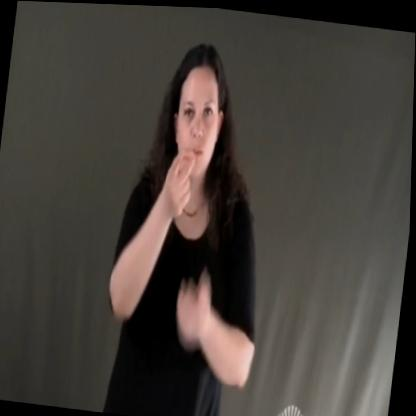HowAreYou: (140, 141, 243, 358)
